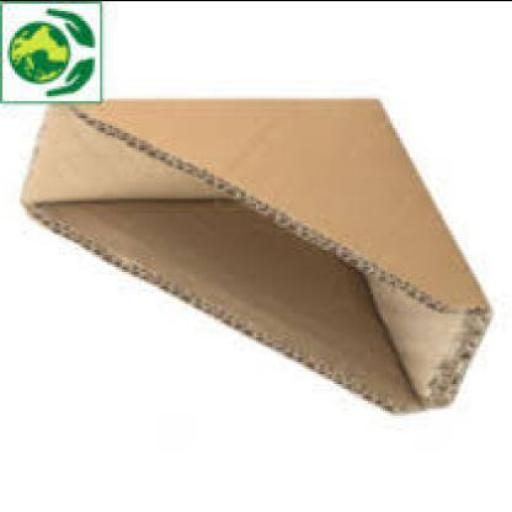cardboard: (15, 90, 490, 412)
